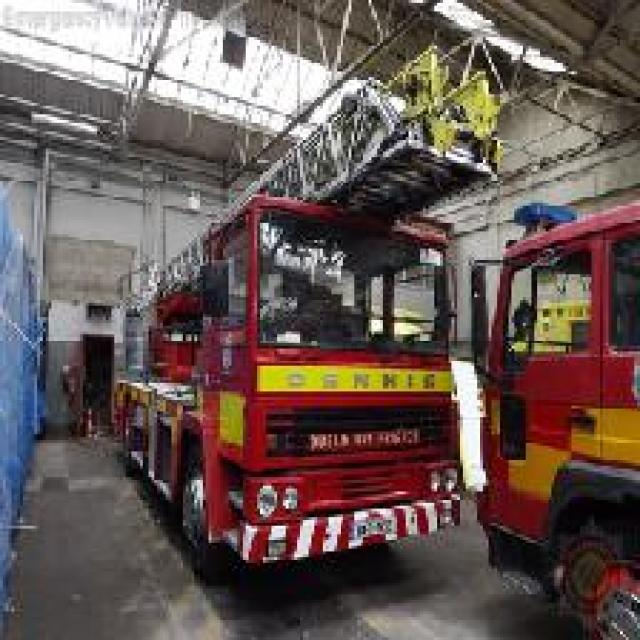Fire-truck: (109, 189, 460, 574), (472, 186, 637, 637)
